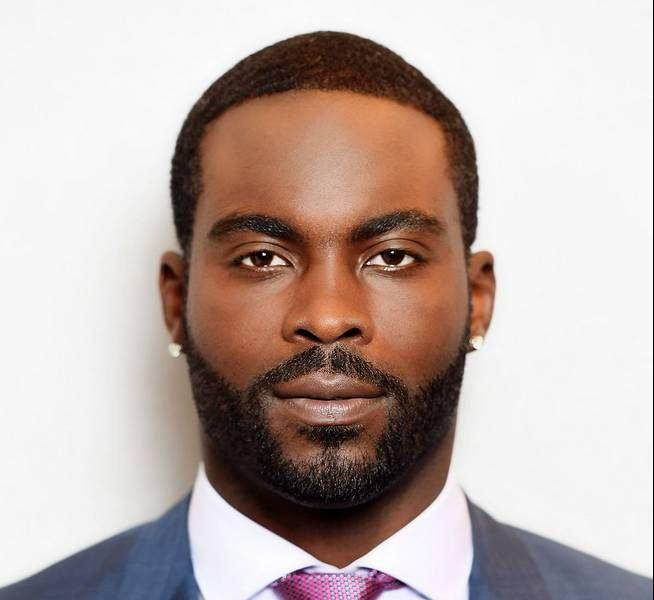Sober: (197, 113, 456, 469)
